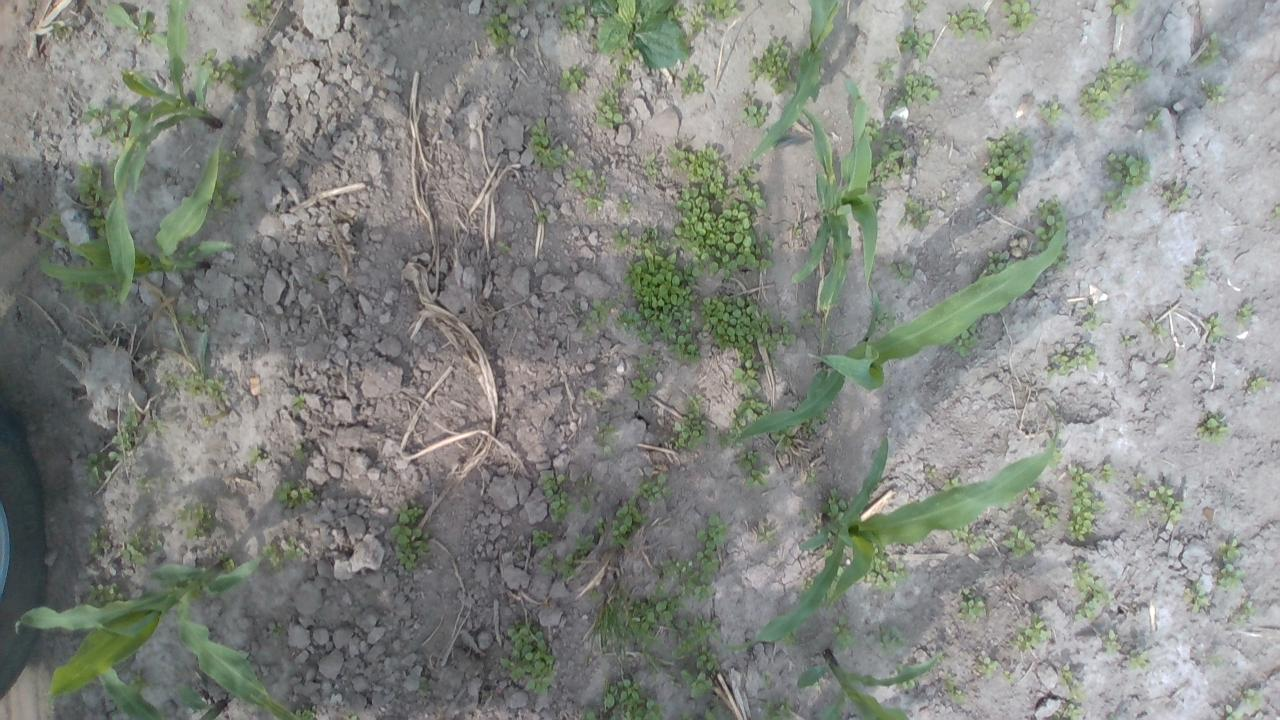Maize: (731, 404, 1058, 653), (730, 214, 1066, 443), (15, 556, 301, 720), (108, 0, 225, 321), (36, 135, 235, 285), (788, 78, 882, 343), (753, 0, 844, 160), (794, 641, 950, 720), (99, 662, 227, 720)
Weeds: (615, 223, 702, 367), (670, 185, 773, 281), (588, 582, 688, 668), (589, 0, 690, 70), (1079, 55, 1149, 120), (498, 623, 558, 697), (698, 292, 772, 352), (978, 128, 1032, 210), (680, 512, 729, 602), (668, 142, 726, 195), (602, 674, 666, 720), (103, 3, 168, 48), (1066, 465, 1104, 540), (81, 101, 139, 150), (391, 503, 431, 569), (198, 48, 256, 91), (670, 612, 719, 662), (868, 133, 913, 186), (606, 494, 647, 550), (751, 39, 792, 94), (165, 367, 228, 402), (863, 542, 907, 592), (670, 394, 706, 450), (212, 146, 242, 209), (73, 158, 112, 206), (540, 472, 576, 522), (1106, 151, 1152, 190), (894, 72, 940, 109), (530, 117, 562, 170), (1036, 198, 1066, 252), (1009, 613, 1050, 652), (892, 26, 934, 64), (1074, 578, 1110, 622), (944, 7, 991, 40), (732, 351, 764, 398), (1052, 344, 1098, 376), (274, 477, 318, 509), (175, 502, 212, 540), (482, 11, 518, 50), (1149, 484, 1184, 524), (998, 0, 1039, 34), (672, 668, 714, 700), (630, 354, 658, 402), (64, 281, 120, 305), (86, 450, 122, 487), (758, 318, 796, 352), (84, 580, 127, 610), (738, 448, 771, 487), (594, 88, 623, 128), (582, 298, 614, 334), (541, 550, 577, 582), (112, 407, 138, 451), (731, 397, 770, 426), (736, 94, 768, 128), (636, 472, 672, 502), (948, 322, 978, 358), (614, 44, 640, 84), (898, 198, 932, 228), (821, 563, 846, 603), (1006, 526, 1036, 559), (821, 486, 850, 520), (694, 0, 740, 21), (1198, 414, 1229, 444), (1161, 182, 1193, 211), (1059, 666, 1085, 701), (831, 614, 856, 650), (957, 593, 985, 623), (558, 64, 587, 92), (558, 2, 586, 31), (1183, 581, 1208, 613), (174, 304, 206, 329), (1198, 31, 1222, 64), (1104, 187, 1133, 214), (244, 0, 274, 26), (942, 674, 968, 704), (878, 629, 908, 655), (594, 422, 616, 457), (694, 644, 720, 673), (564, 166, 594, 191), (123, 534, 147, 565), (680, 66, 706, 94), (1216, 564, 1246, 588), (1070, 560, 1090, 594), (1080, 304, 1104, 332), (984, 249, 1010, 274), (720, 421, 744, 448), (1039, 101, 1063, 128), (86, 528, 110, 554), (86, 206, 106, 237), (976, 656, 1002, 679), (734, 165, 756, 192), (1102, 628, 1123, 656), (1217, 536, 1241, 560), (126, 666, 144, 698), (888, 260, 914, 282), (1023, 486, 1042, 516), (1202, 80, 1226, 103), (764, 701, 793, 720), (660, 558, 686, 578), (802, 413, 829, 432), (283, 537, 305, 560), (260, 542, 280, 567), (1038, 503, 1058, 528), (574, 534, 596, 556), (1185, 266, 1207, 288), (1108, 0, 1138, 16), (1056, 703, 1084, 720), (1205, 314, 1223, 340), (531, 528, 552, 550), (874, 310, 896, 330), (876, 60, 896, 82), (1048, 250, 1066, 274), (864, 120, 882, 143), (1244, 686, 1261, 710), (950, 524, 970, 544), (798, 306, 816, 328), (46, 208, 64, 230), (1236, 303, 1254, 325), (1132, 499, 1152, 518), (774, 427, 792, 448), (612, 228, 629, 250), (904, 0, 927, 16), (289, 442, 306, 463), (583, 191, 604, 208), (293, 705, 316, 720), (148, 528, 162, 552), (558, 144, 576, 162), (968, 534, 986, 552), (1131, 652, 1149, 670), (758, 525, 775, 544), (1144, 112, 1160, 132), (1048, 450, 1064, 469), (1223, 703, 1240, 720), (689, 13, 704, 32), (578, 494, 592, 514), (583, 384, 601, 399), (644, 158, 659, 176), (248, 446, 262, 465), (1249, 376, 1266, 391), (1151, 322, 1169, 336), (942, 478, 961, 491), (782, 632, 798, 647), (271, 622, 285, 639), (618, 199, 632, 216), (800, 576, 816, 590), (222, 558, 238, 572), (582, 706, 598, 720), (144, 418, 160, 432), (794, 47, 808, 63), (759, 670, 770, 690), (533, 209, 548, 223), (893, 662, 913, 672), (1242, 602, 1256, 616), (806, 470, 818, 486), (49, 23, 68, 33), (1103, 464, 1114, 481), (679, 709, 696, 720), (884, 103, 896, 118), (294, 394, 305, 410), (596, 176, 608, 188), (1118, 338, 1134, 347), (704, 711, 720, 720), (497, 241, 510, 252), (418, 679, 431, 690), (1211, 655, 1223, 666), (902, 678, 914, 688), (794, 223, 802, 236), (760, 128, 770, 138), (798, 510, 810, 518), (1236, 616, 1246, 624), (1274, 206, 1280, 219), (514, 0, 526, 6), (1108, 713, 1118, 720), (873, 197, 880, 207), (349, 713, 358, 720)
